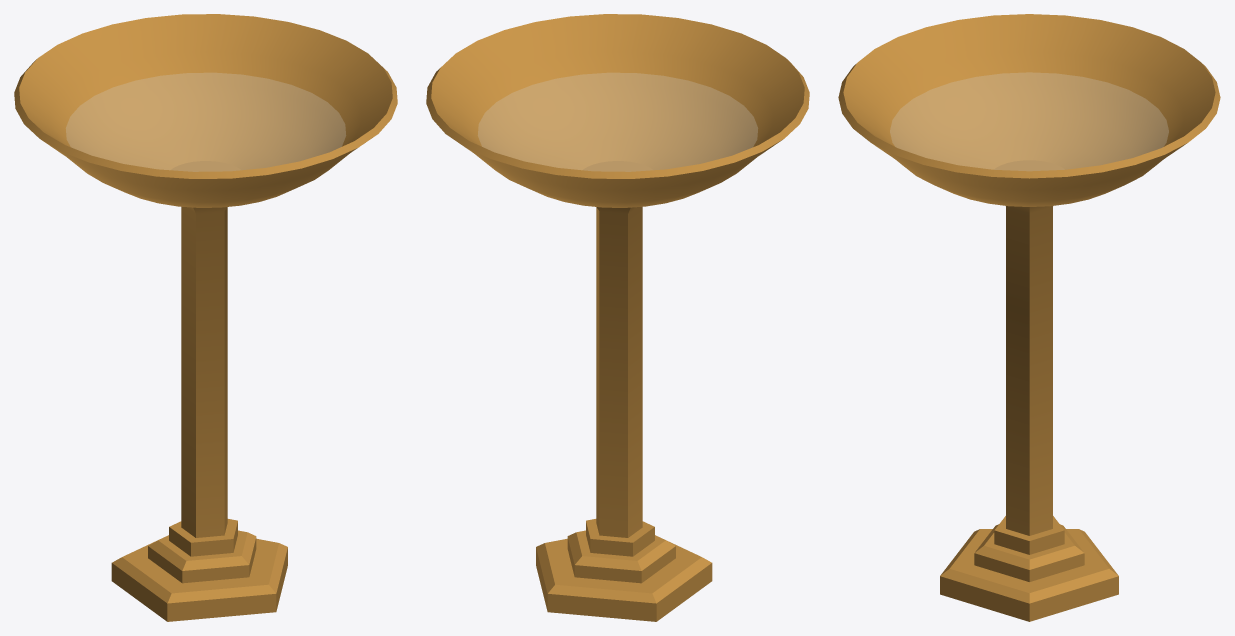
The model's file is birdBath.glb.
3 renders of one model, left to right at view 1: azimuth 30°, elevation 25°; view 2: azimuth 150°, elevation 25°; view 3: azimuth 270°, elevation 25°, orthographic.
Parts seen in each view (by area): view 1: birdBath, water; view 2: birdBath, water; view 3: birdBath, water.
Boxes of the visible parts, x1,y1,x2,y2 form: birdBath: (14, 14, 397, 621); water: (66, 73, 345, 171); birdBath: (426, 14, 809, 621); water: (478, 73, 757, 171); birdBath: (838, 14, 1220, 621); water: (890, 72, 1168, 170).
Size of the model in its own units: 0.6365 by 0.8996 by 0.6365.
